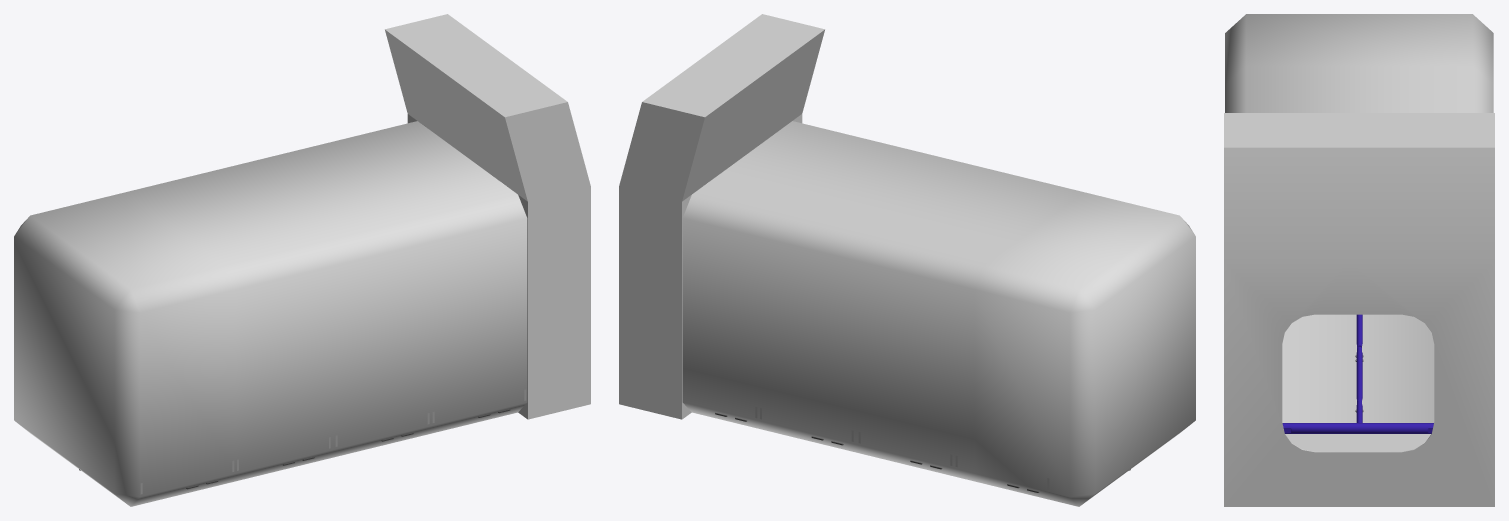
The model's file is Col_Inner_Simple.FBX.
3 renders of one model, left to right at view 1: azimuth 30°, elevation 25°; view 2: azimuth 150°, elevation 25°; view 3: azimuth 270°, elevation 25°, orthographic. The views are drawn at different scales.
Visible parts, largest first — view 1: Module_Interior_Simple, Pedestal; view 2: Module_Interior_Simple, Pedestal; view 3: Pedestal, Module_Interior_Simple, Rail_Under_Hatch, Floor_Rail_3.
Part boxes in pixels (bbox=[...]): Module_Interior_Simple: bbox=[14, 121, 527, 506]; Pedestal: bbox=[385, 14, 590, 419]; Module_Interior_Simple: bbox=[682, 121, 1195, 506]; Pedestal: bbox=[619, 14, 824, 419]; Pedestal: bbox=[1224, 113, 1494, 506]; Module_Interior_Simple: bbox=[1225, 14, 1493, 422]; Rail_Under_Hatch: bbox=[1282, 423, 1433, 433]; Floor_Rail_3: bbox=[1356, 346, 1362, 400].
Size of the model in its own units: 4.88 by 3.08 by 2.18.
